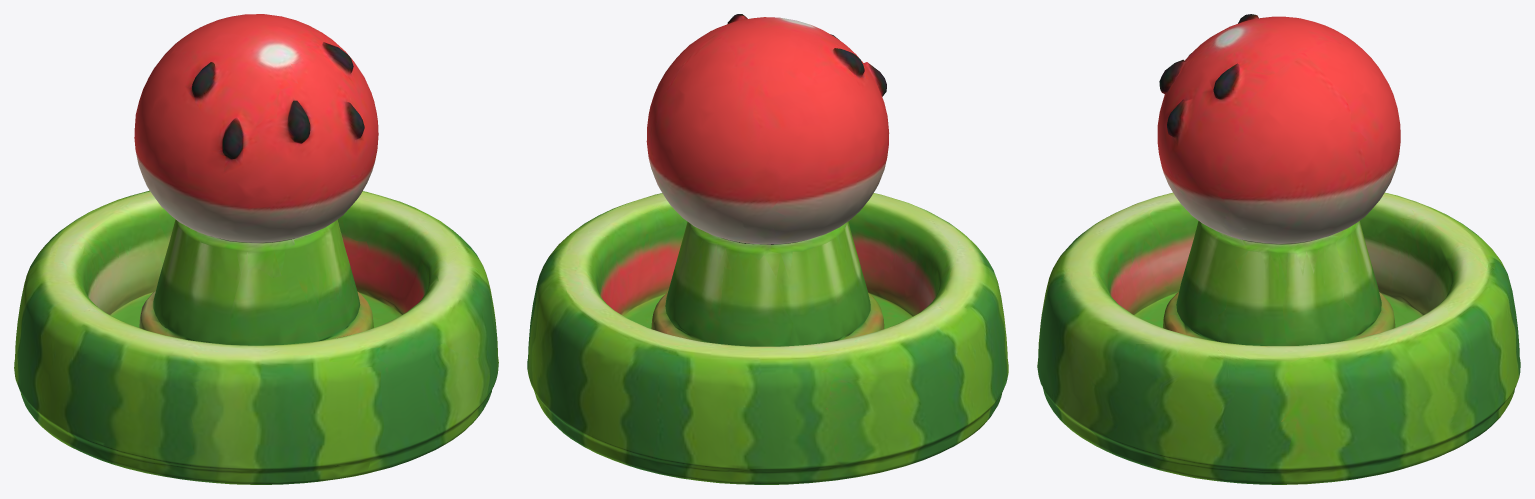
File: watermelon.glb
3 renders of one model, left to right at view 1: azimuth 30°, elevation 25°; view 2: azimuth 150°, elevation 25°; view 3: azimuth 270°, elevation 25°, orthographic.
Visible parts, largest first — view 1: tripo_node_4115db7a-b6ac-4a83-ad2d-4c0d7ec2fb7c; view 2: tripo_node_4115db7a-b6ac-4a83-ad2d-4c0d7ec2fb7c; view 3: tripo_node_4115db7a-b6ac-4a83-ad2d-4c0d7ec2fb7c.
Part boxes in pixels (x1,y1,x2,y2): tripo_node_4115db7a-b6ac-4a83-ad2d-4c0d7ec2fb7c: [14, 14, 498, 484]; tripo_node_4115db7a-b6ac-4a83-ad2d-4c0d7ec2fb7c: [527, 14, 1008, 484]; tripo_node_4115db7a-b6ac-4a83-ad2d-4c0d7ec2fb7c: [1037, 14, 1520, 484].
Bounding box in the file's own units: 1 × 0.8234 × 1.
Materials: 1 (1 with a texture image).
